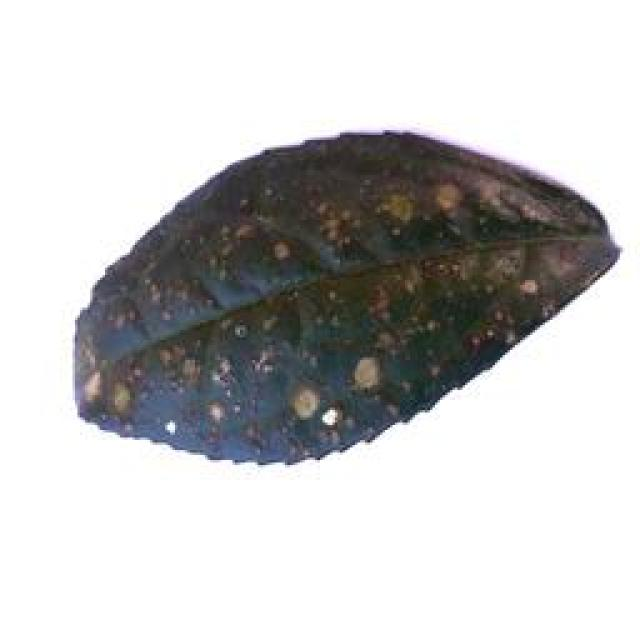Algal Leaf Spot: (59, 127, 616, 476)
